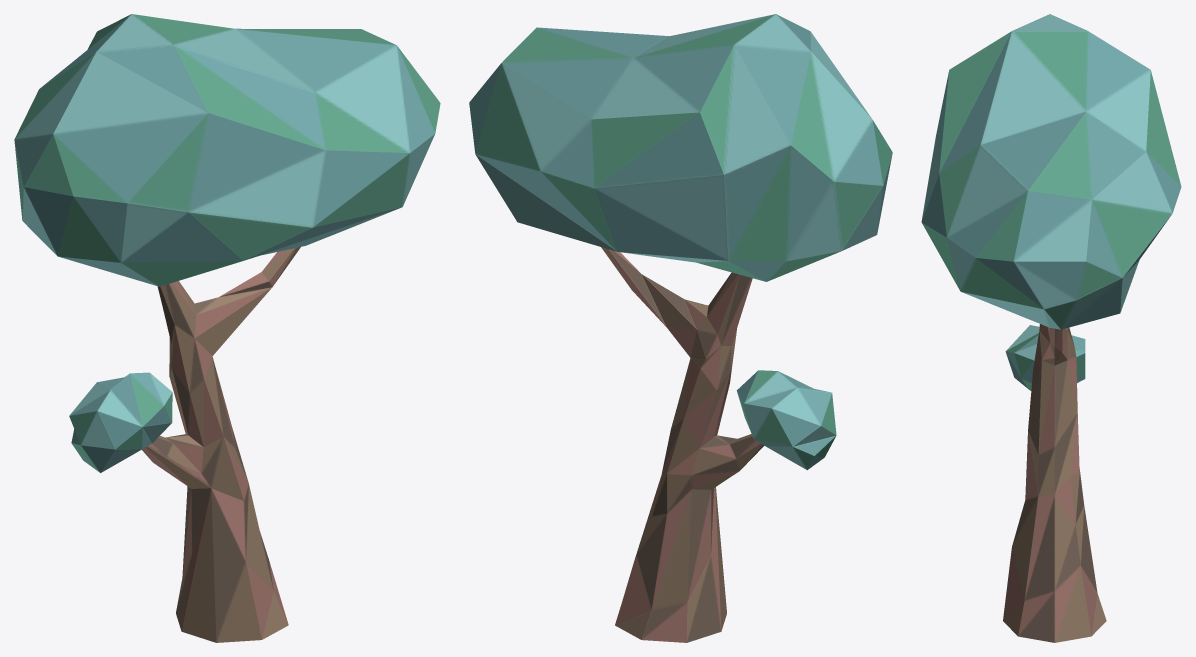
File: Isla_Bosque_Arbol_Verde.FBX
The picture shows the model from 3 angles, left to right: view 1: azimuth 30°, elevation 25°; view 2: azimuth 150°, elevation 25°; view 3: azimuth 270°, elevation 25°; orthographic projection. The views are drawn at different scales.
Visible parts, largest first — view 1: Isla_Bosque_Arbol; view 2: Isla_Bosque_Arbol; view 3: Isla_Bosque_Arbol.
Boxes of the visible parts, bbox=[...] form: Isla_Bosque_Arbol: bbox=[14, 14, 440, 642]; Isla_Bosque_Arbol: bbox=[469, 14, 892, 642]; Isla_Bosque_Arbol: bbox=[921, 14, 1181, 642].
Bounding box in the file's own units: 81.36 × 120 × 51.07.
1 material, 1 textured.
